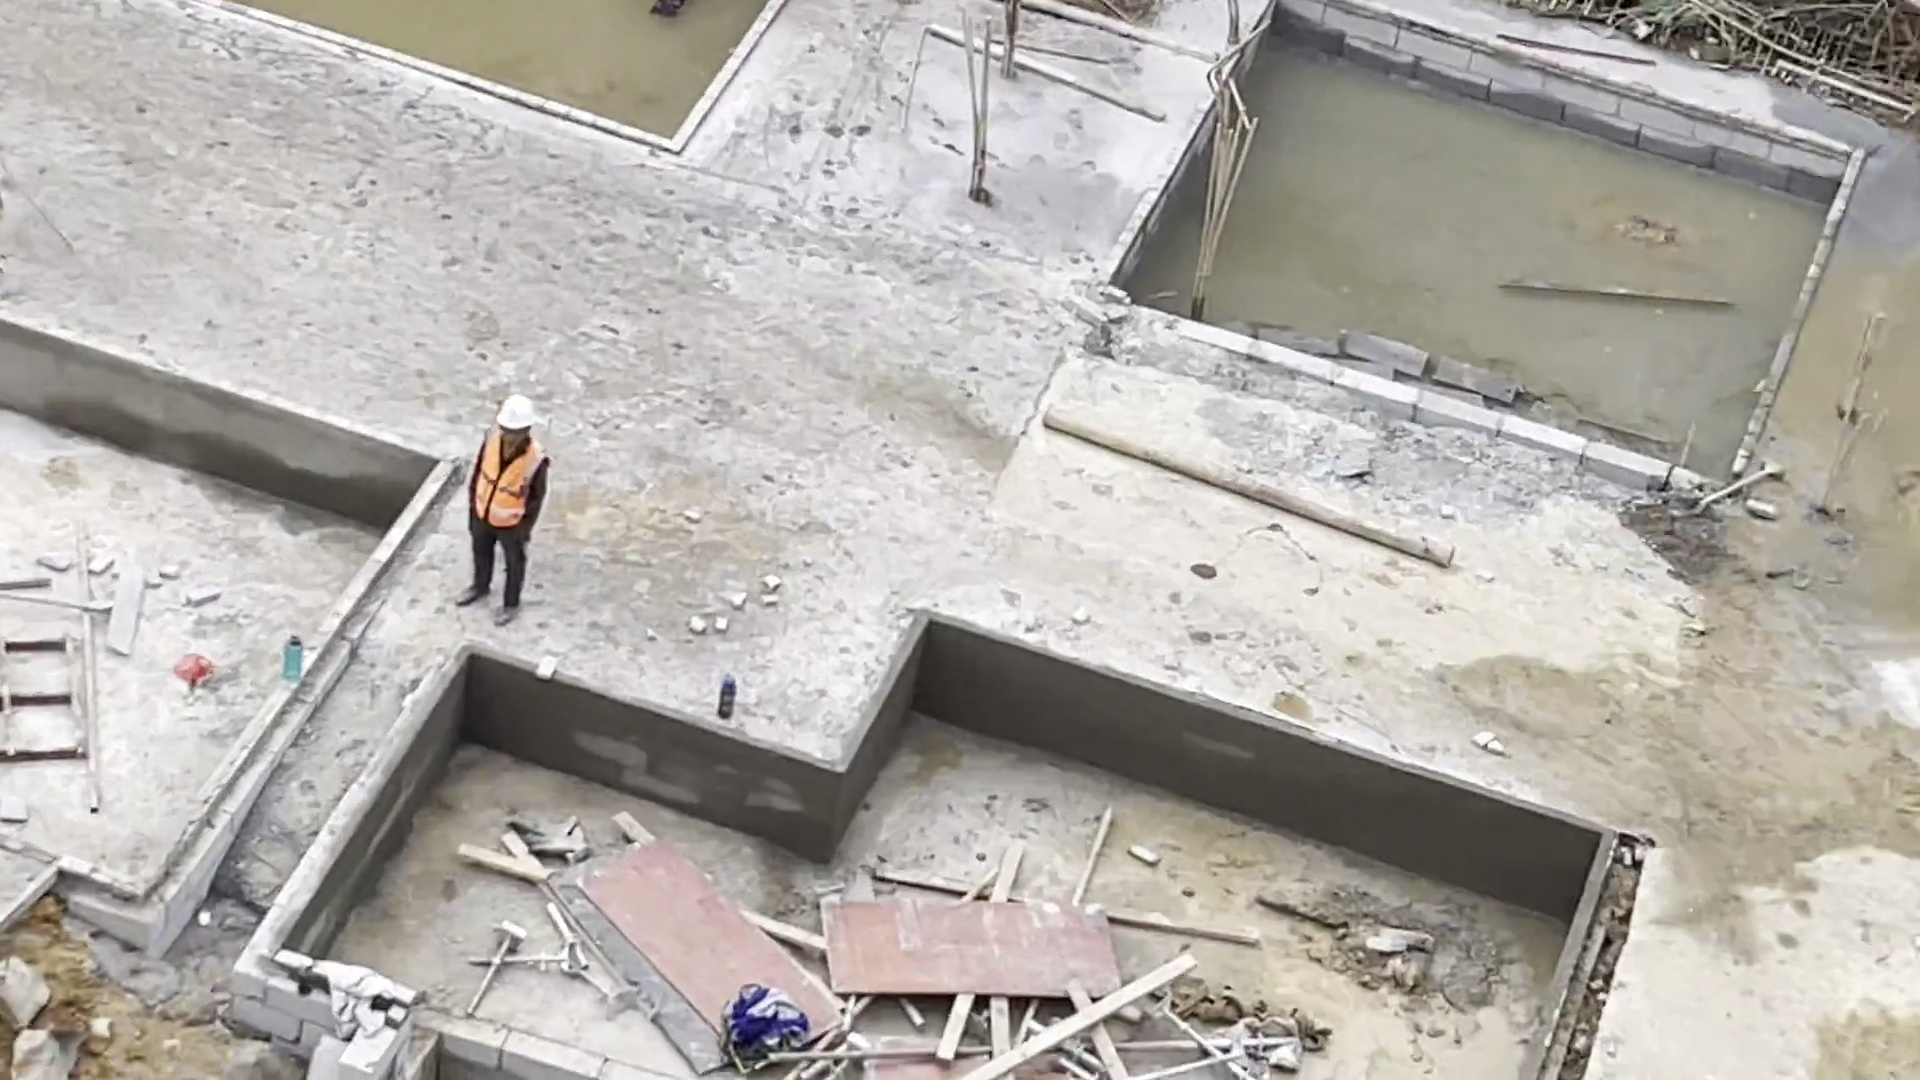helmet: (495, 394, 542, 432)
person: (449, 390, 549, 628)
vest: (466, 426, 546, 530)
